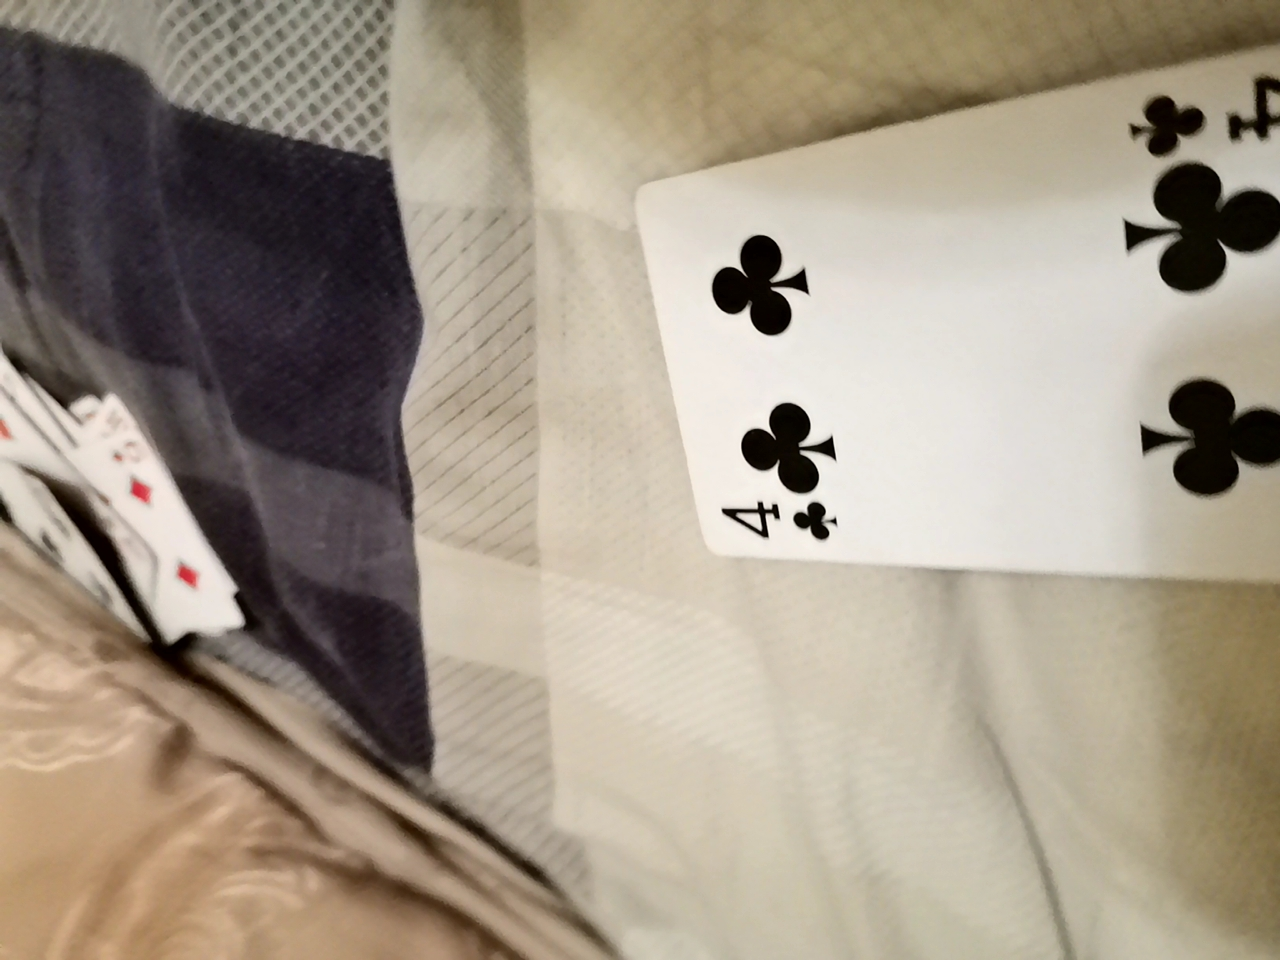mh 4: (612, 47, 1276, 622)
